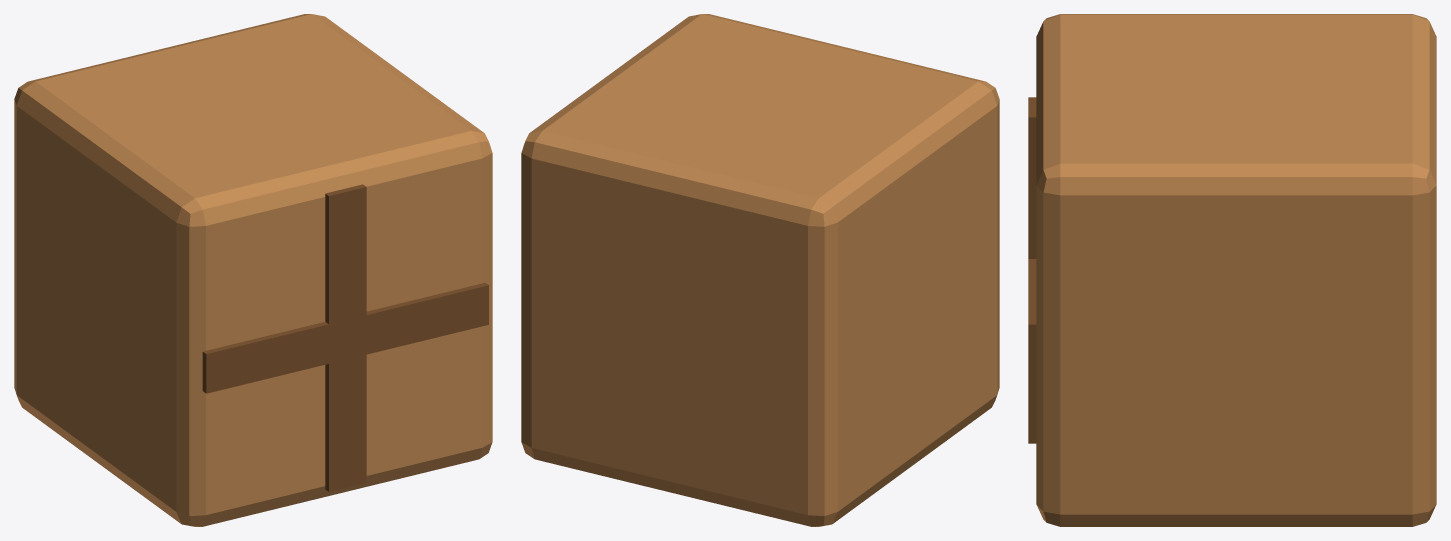
The model's file is Jumping_Crate.fbx.
3 views of the same model, side by side, from view 1: azimuth 30°, elevation 25°; view 2: azimuth 150°, elevation 25°; view 3: azimuth 270°, elevation 25° (orthographic). The views are drawn at different scales.
Parts seen in each view (by area): view 1: Crate; view 2: Crate; view 3: Crate.
Boxes of the visible parts, x1,y1,x2,y2 form: Crate: (14,14,492,526); Crate: (521,14,999,526); Crate: (1028,14,1436,526).
Bounding box in the file's own units: 1 × 1 × 1.02.
